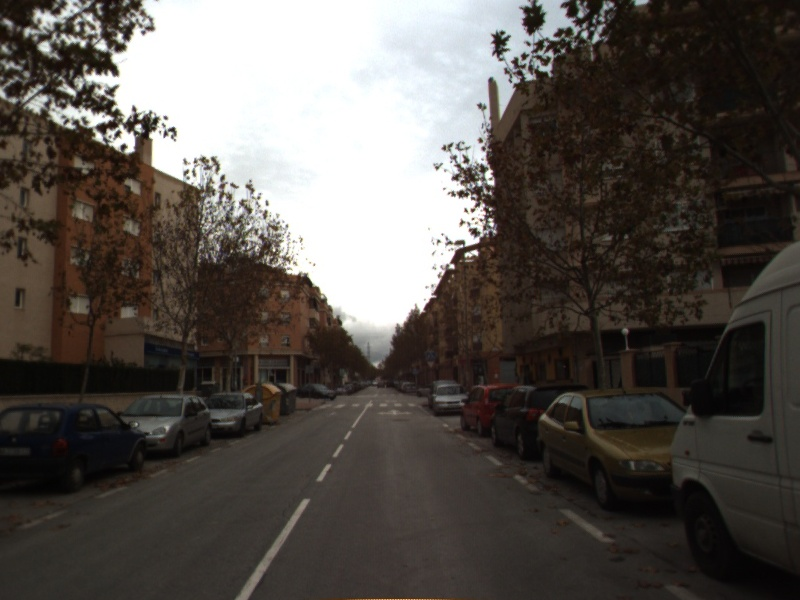STRAIGHT_LEFT_RIGHT: (374, 406, 415, 418)
